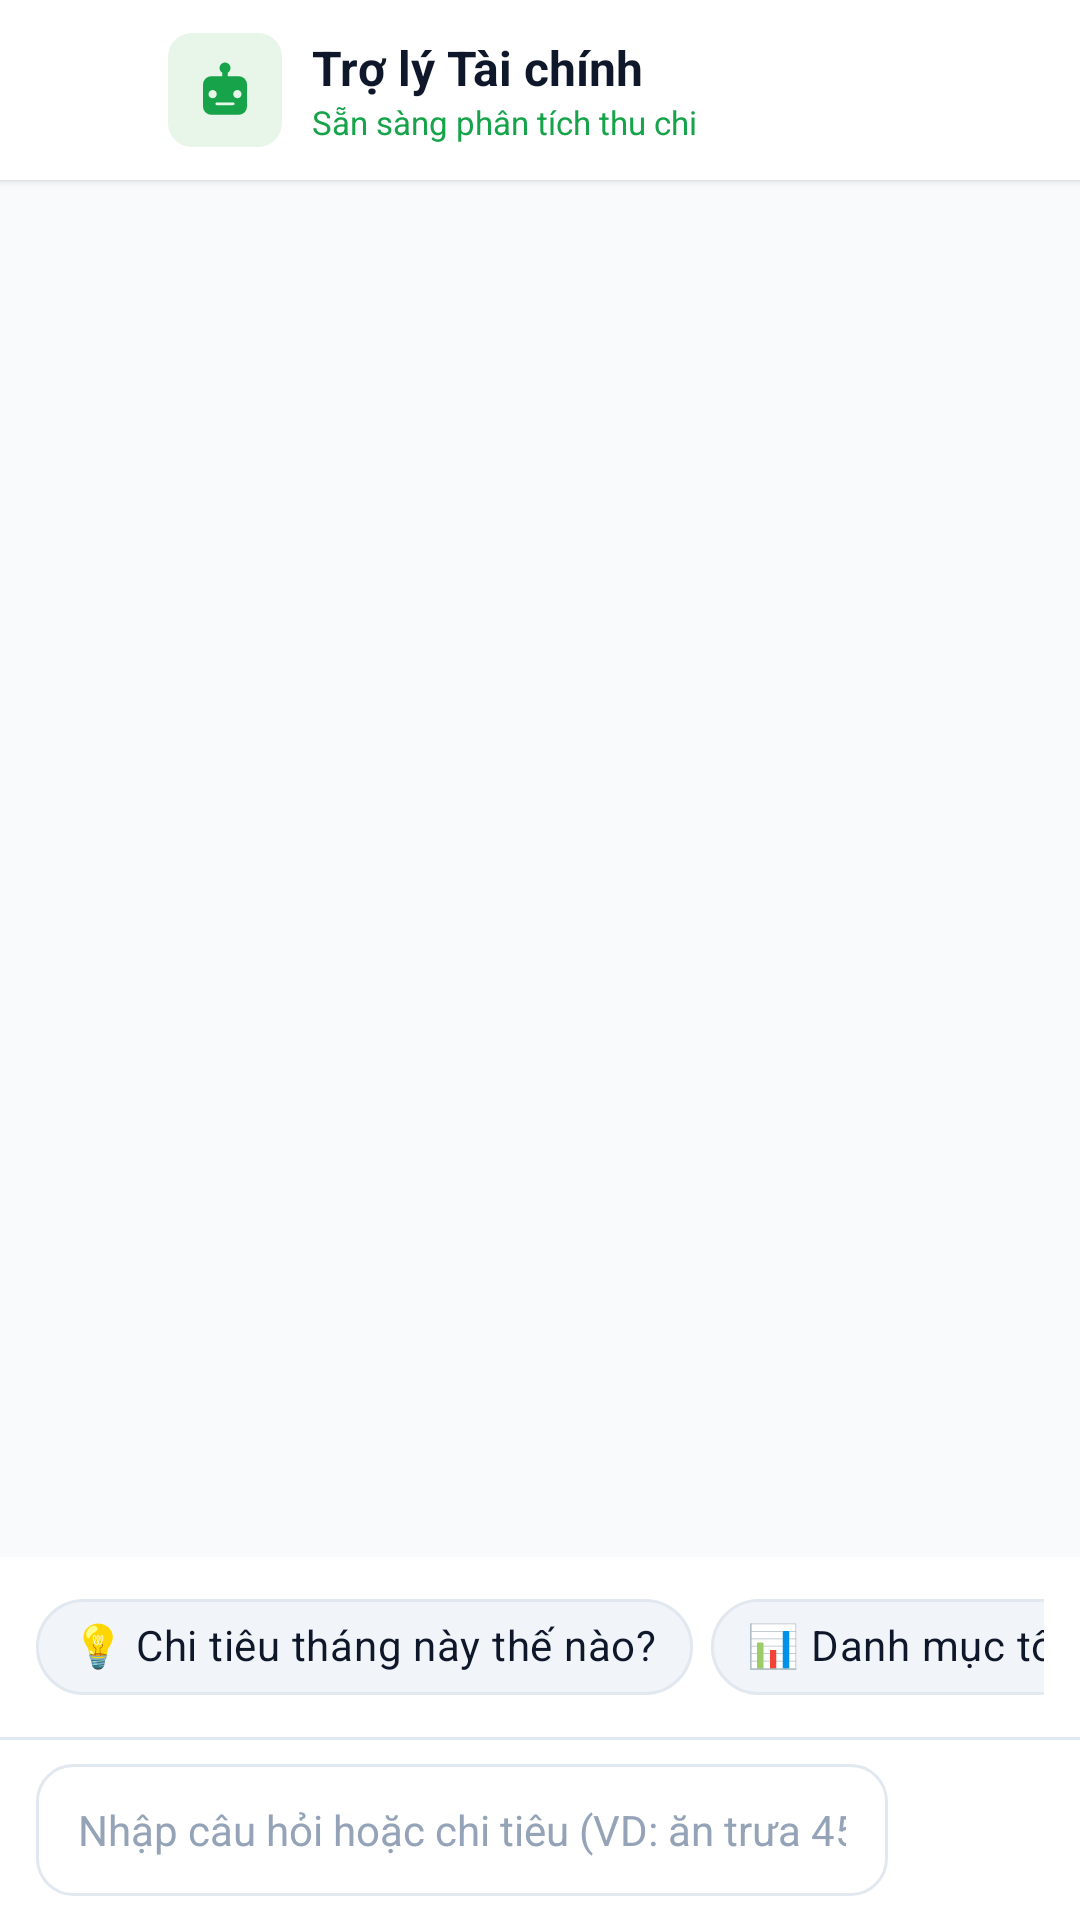

Icons on this 1080px×1920px Android screen, each with the point to tap as (x=x, y=y):
bot ai: (x=225, y=88)
